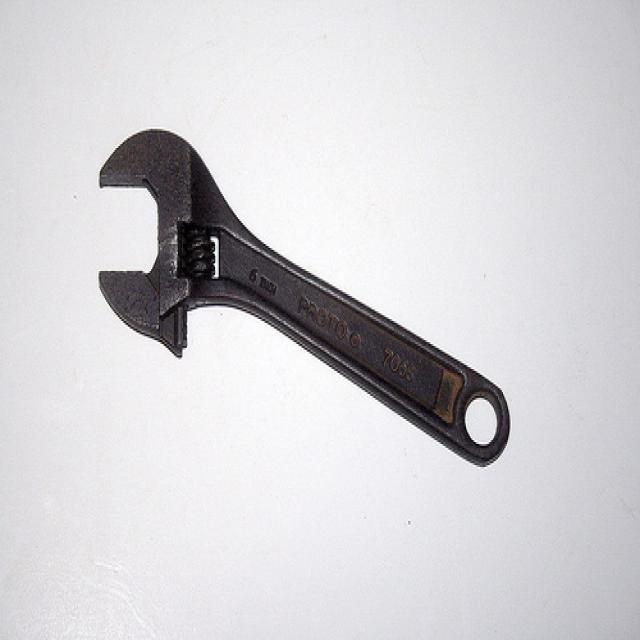wrench: (68, 101, 518, 578)
